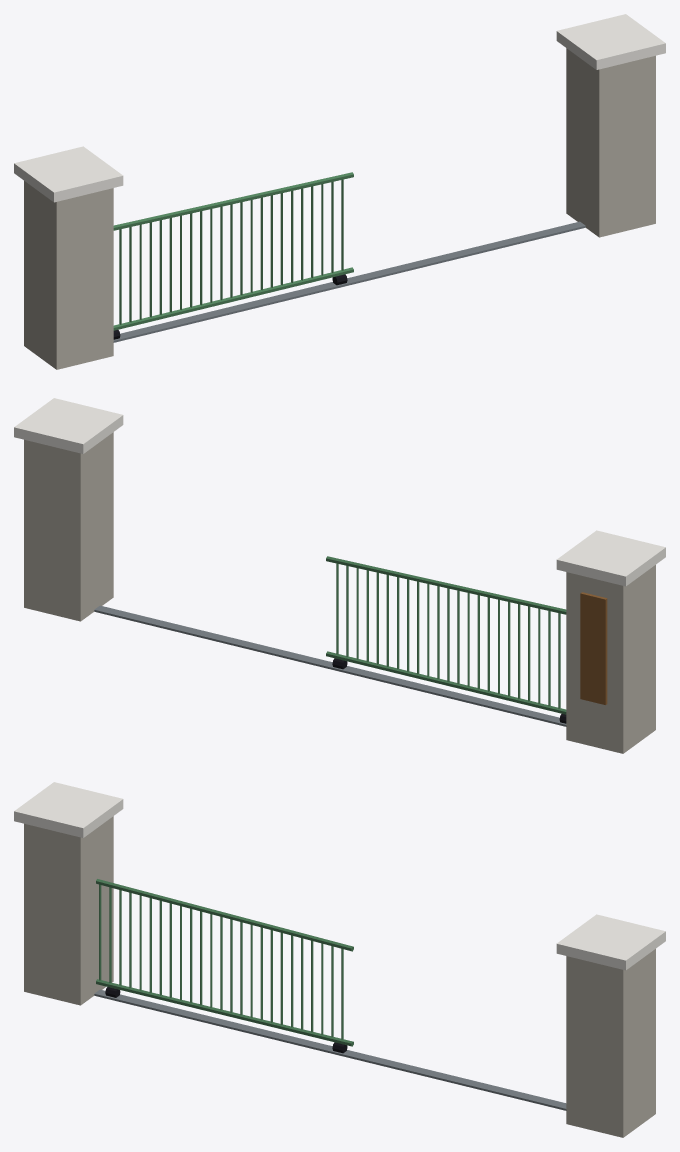
The model's file is SchoolGate.fbx.
3 renders of one model, top to bottom at view 1: azimuth 30°, elevation 25°; view 2: azimuth 150°, elevation 25°; view 3: azimuth 330°, elevation 25°, orthographic.
Parts seen in each view (by area): view 1: SchoolGate; view 2: SchoolGate; view 3: SchoolGate.
Boxes of the visible parts, <box> form: SchoolGate: <box>14,14,665,369</box>; SchoolGate: <box>14,398,665,753</box>; SchoolGate: <box>14,782,665,1137</box>.
Bounding box in the file's own units: 9.7 × 2.75 × 1.1.
